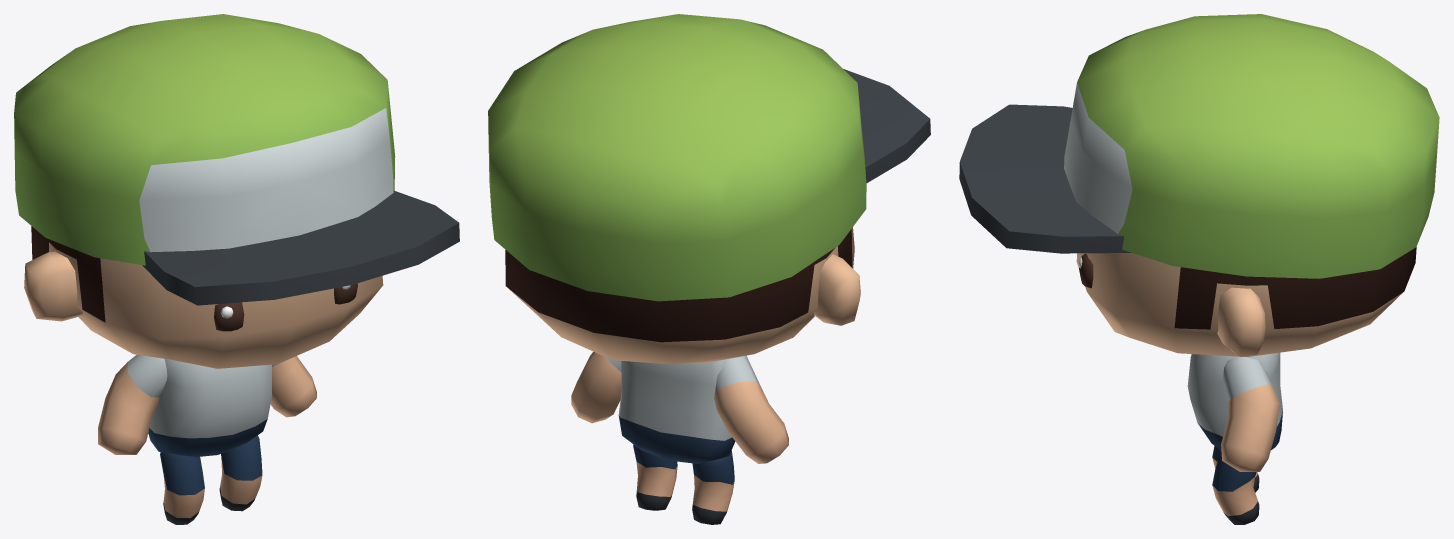
Rendered from idle_0009.obj.
3 renders of one model, left to right at view 1: azimuth 30°, elevation 25°; view 2: azimuth 150°, elevation 25°; view 3: azimuth 270°, elevation 25°, orthographic.
Parts seen in each view (by area): view 1: Object_41, Object_42, Object_36, Object_44, Object_38; view 2: Object_41, Object_36, Object_44, Object_42; view 3: Object_41, Object_36, Object_42, Object_44.
Boxes of the visible parts, box(x1,y1,x2,y2) form: Object_41: box(14, 14, 395, 265); Object_42: box(139, 108, 459, 305); Object_36: box(24, 226, 383, 368); Object_44: box(98, 354, 316, 524); Object_38: box(214, 283, 357, 331); Object_41: box(488, 14, 866, 301); Object_36: box(505, 227, 860, 364); Object_44: box(571, 351, 788, 524); Object_42: box(843, 69, 930, 183); Object_41: box(1077, 14, 1439, 278); Object_36: box(1076, 247, 1416, 356); Object_42: box(959, 83, 1132, 253); Object_44: box(1187, 352, 1282, 524).
Bounding box in the file's own units: 0.9691 × 1.22 × 1.14.
